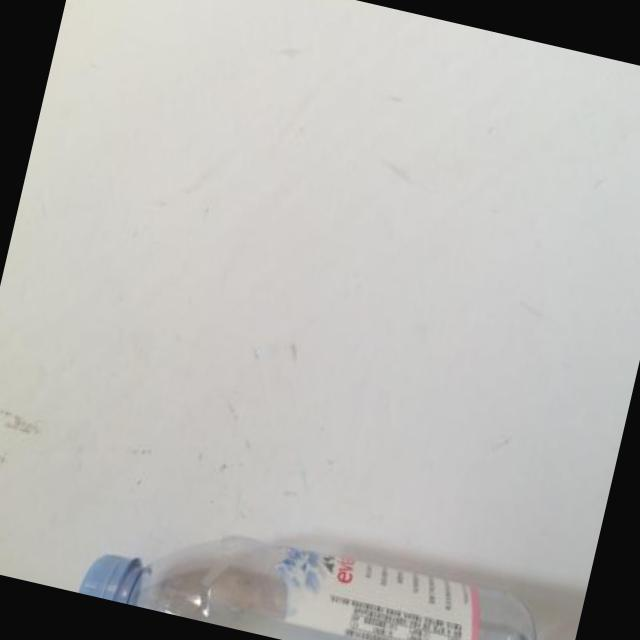Recycle: (75, 495, 559, 640)
